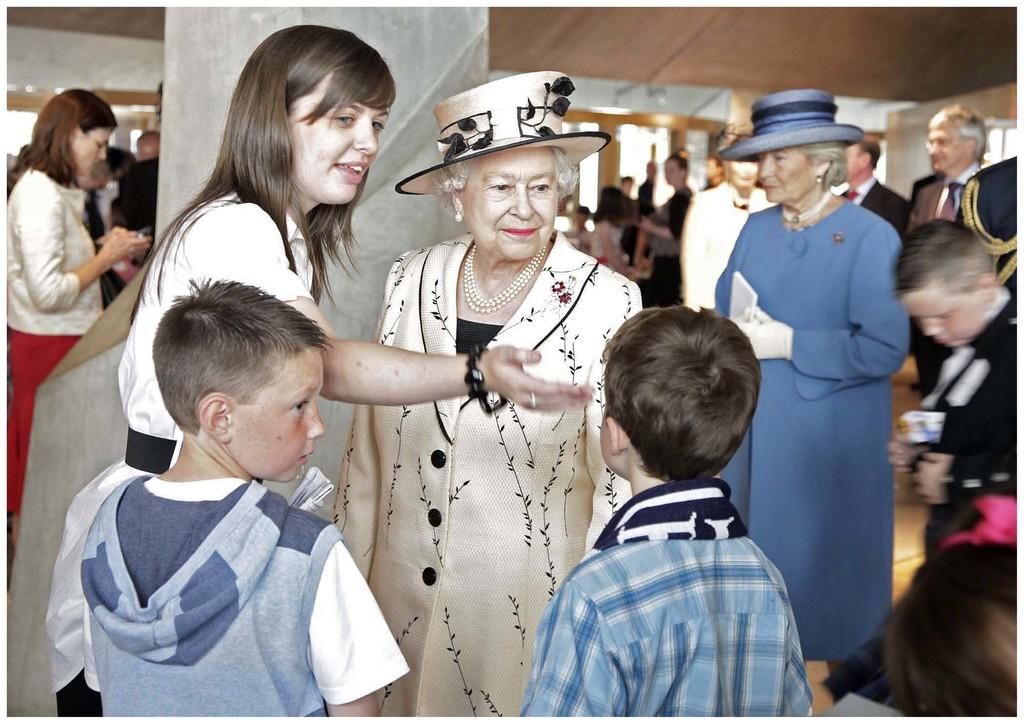Hat: (393, 66, 614, 200), (714, 87, 870, 162)
